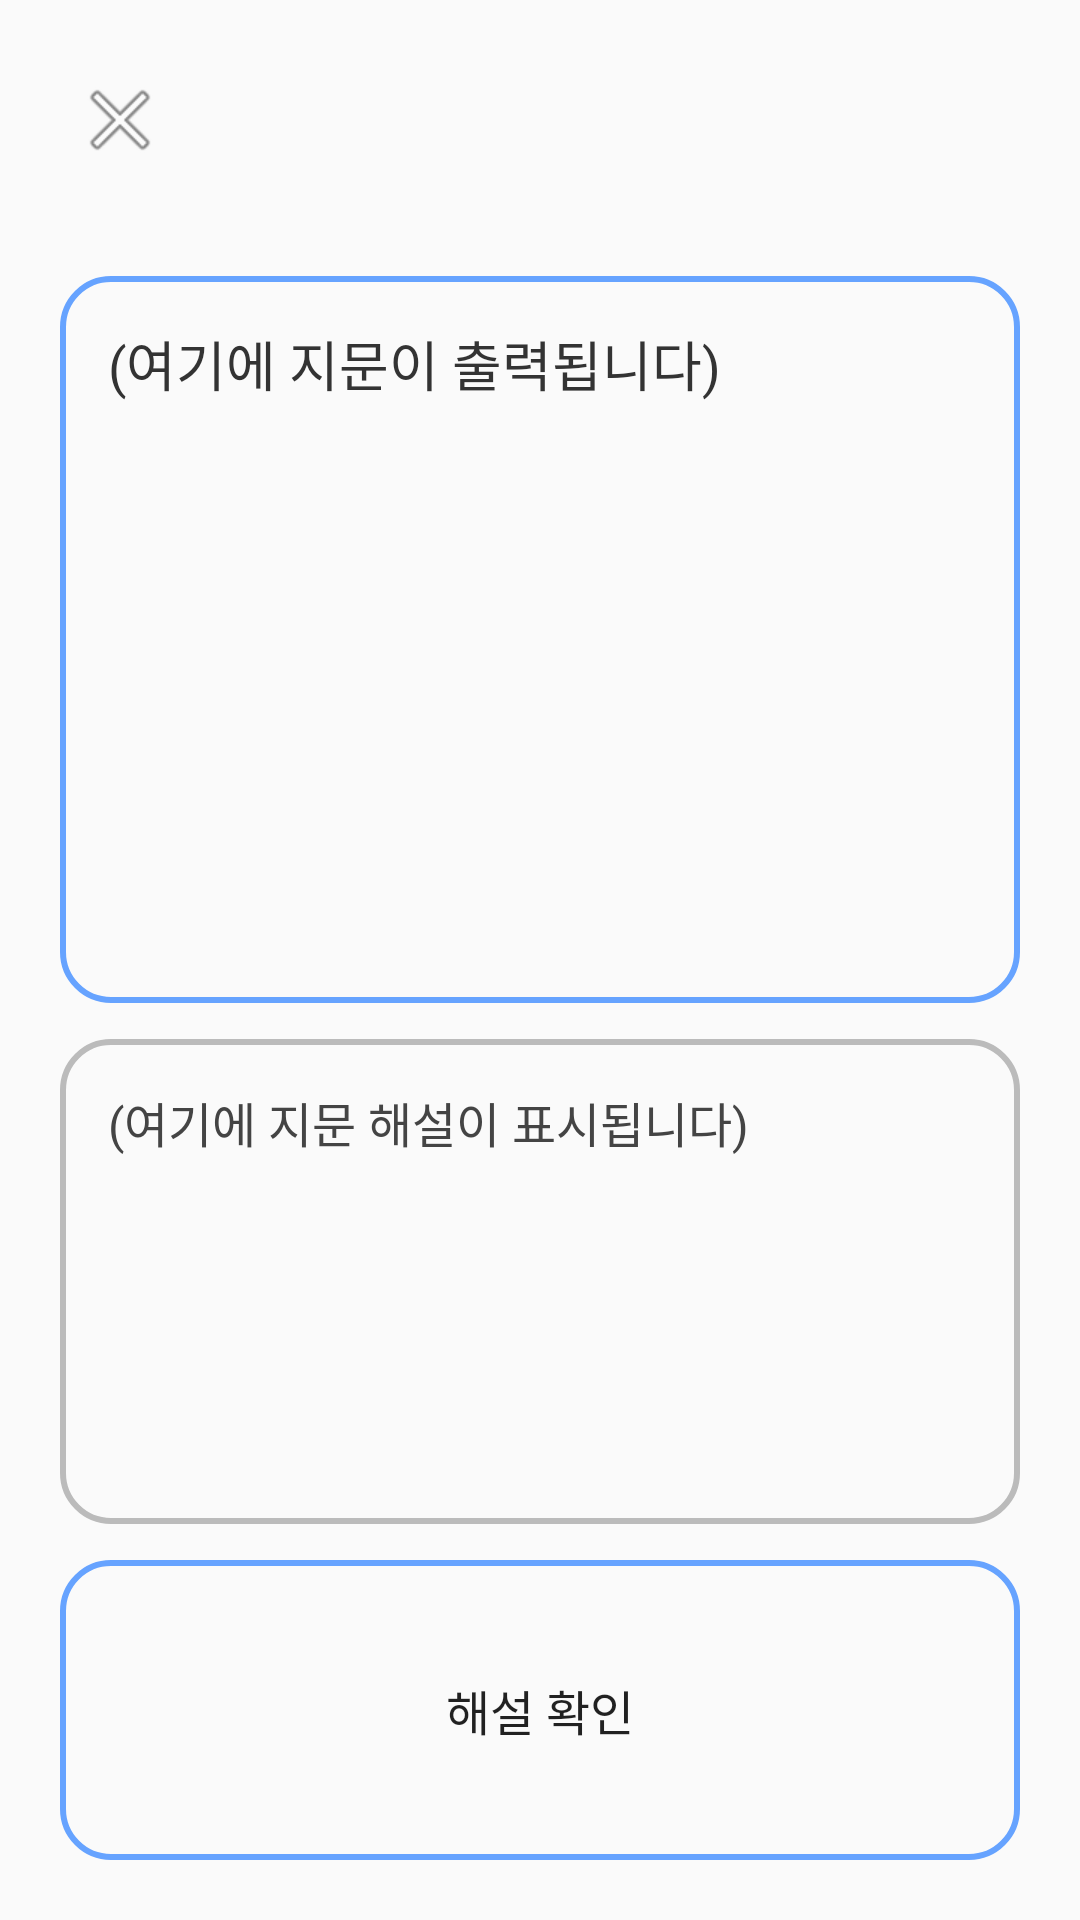

Named icons in this screenshot (1080w x 1920h) and their bounding boxes, (x1, y1, x2, y2):
닫기: (90, 90, 150, 150)
